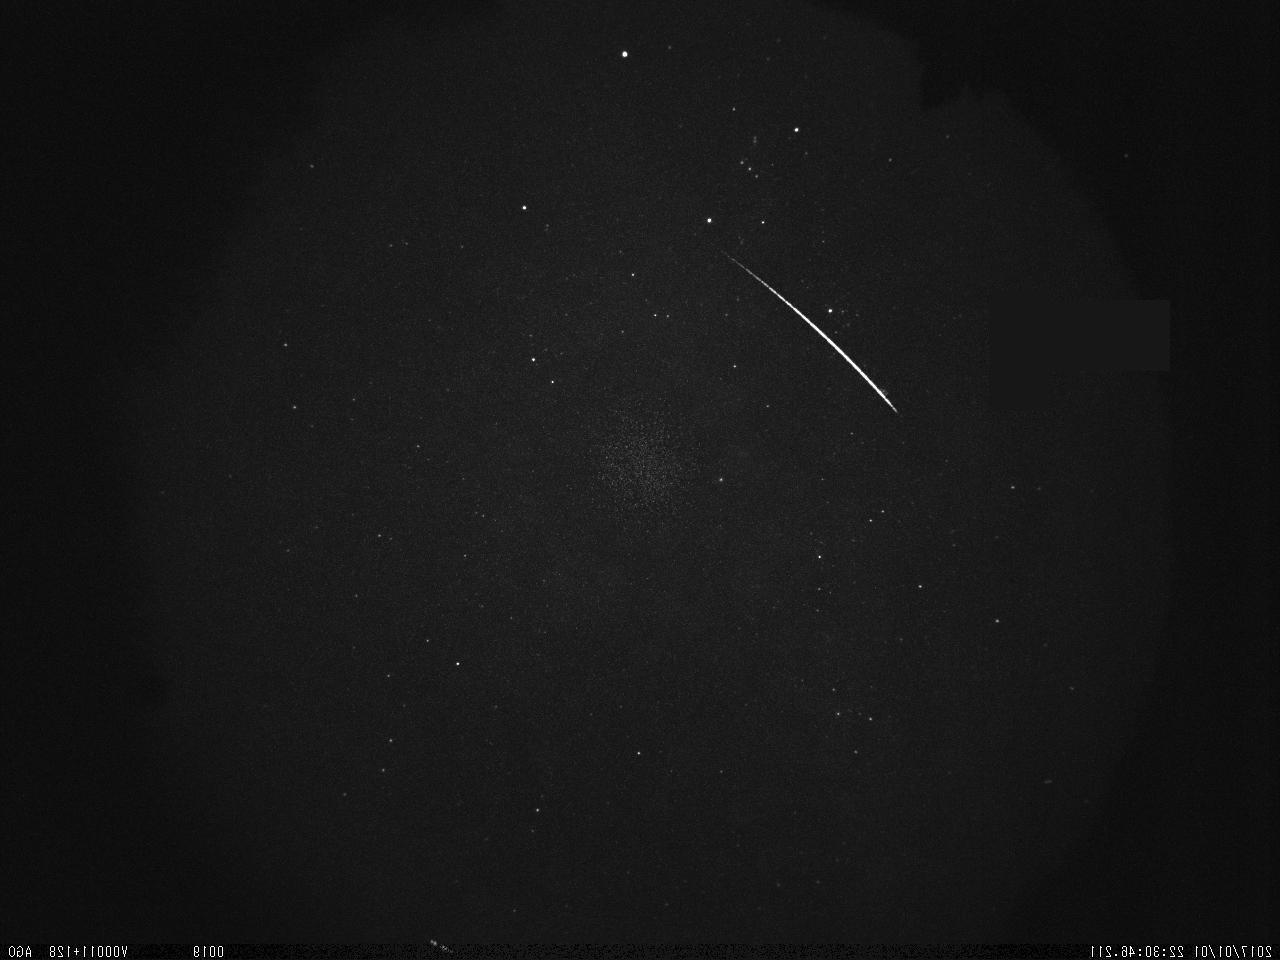meteor: (664, 239, 914, 443)
